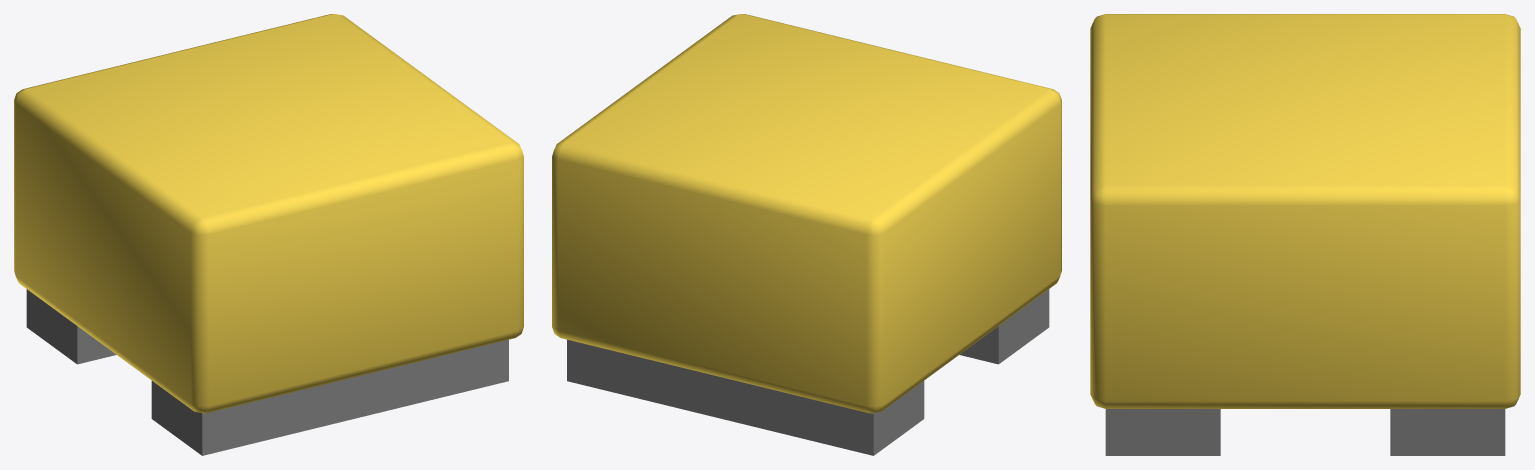
File: Sofa_01_Ottoman.glb
3 views of the same model, side by side, from view 1: azimuth 30°, elevation 25°; view 2: azimuth 150°, elevation 25°; view 3: azimuth 270°, elevation 25° (orthographic). The views are drawn at different scales.
Parts seen in each view (by area): view 1: Sofa_Ottoman; view 2: Sofa_Ottoman; view 3: Sofa_Ottoman.
Part boxes in pixels (x1,y1,x2,y2): Sofa_Ottoman: (14, 14, 523, 455); Sofa_Ottoman: (552, 14, 1061, 455); Sofa_Ottoman: (1090, 14, 1520, 455).
Bounding box in the file's own units: 0.6014 × 0.4129 × 0.5937.
1 material, 1 textured.
